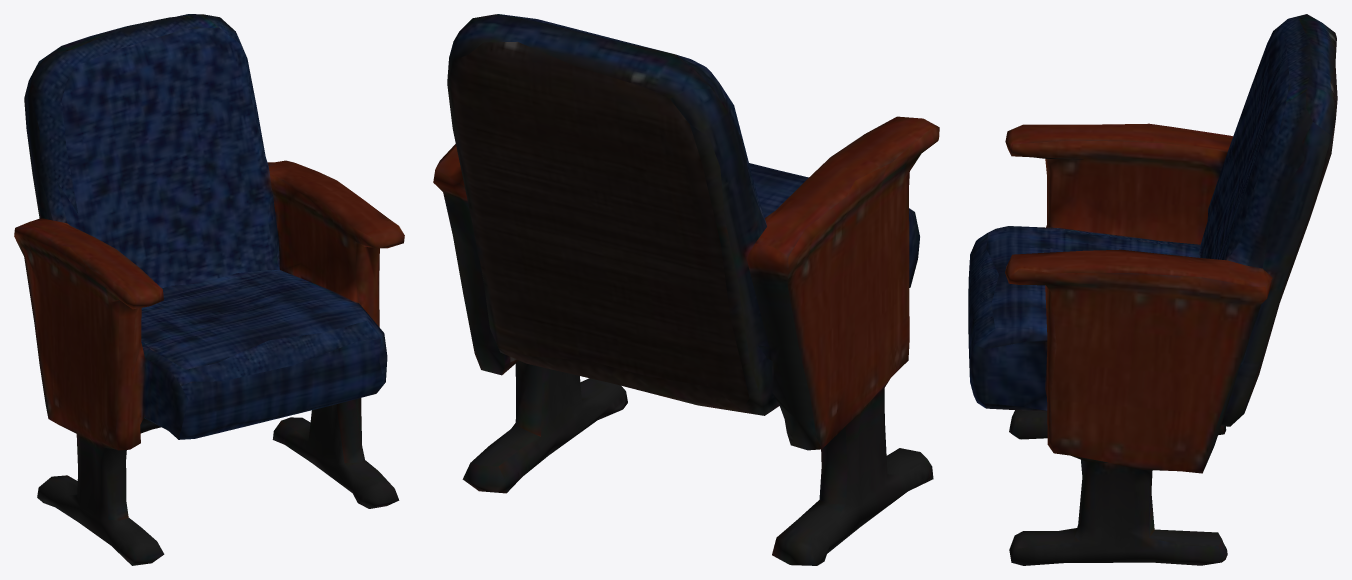
File: vip_seat.glb
The picture shows the model from 3 angles, left to right: view 1: azimuth 30°, elevation 25°; view 2: azimuth 150°, elevation 25°; view 3: azimuth 270°, elevation 25°; orthographic projection. The views are drawn at different scales.
Bounding box in the file's own units: 0.7175 × 1.01 × 0.7588.
1 material, 1 textured.
